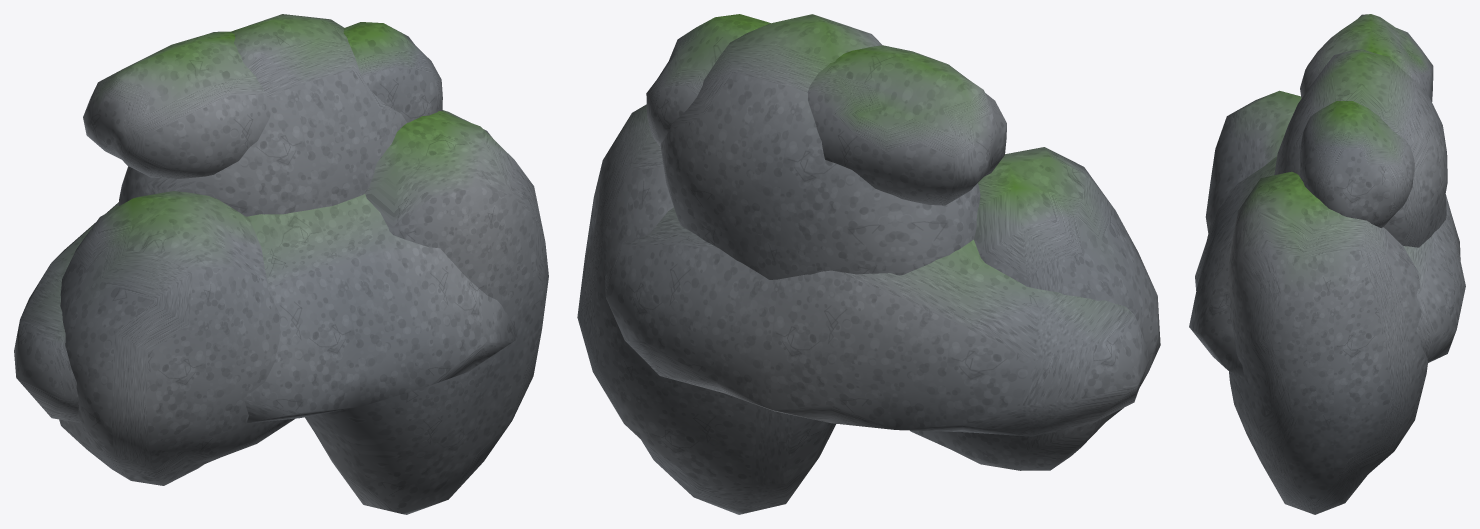
The model's file is rock_cliff.glb.
The picture shows the model from 3 angles, left to right: view 1: azimuth 30°, elevation 25°; view 2: azimuth 150°, elevation 25°; view 3: azimuth 270°, elevation 25°; orthographic projection. The views are drawn at different scales.
Visible parts, largest first — view 1: rock_cliff_stone; view 2: rock_cliff_stone; view 3: rock_cliff_stone.
Boxes of the visible parts, x1=… form: rock_cliff_stone: x1=14, y1=14, x2=548, y2=514; rock_cliff_stone: x1=577, y1=14, x2=1160, y2=514; rock_cliff_stone: x1=1189, y1=14, x2=1465, y2=514.
Size of the model in its own units: 5.25 by 4.92 by 2.96.
Materials: 1 (1 with a texture image).
